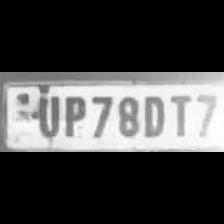7: (84, 92, 112, 140), (192, 91, 218, 139)
8: (113, 92, 140, 138)
D: (140, 91, 166, 139)
P: (59, 92, 87, 138)
T: (167, 90, 192, 138)
U: (32, 92, 60, 138)
